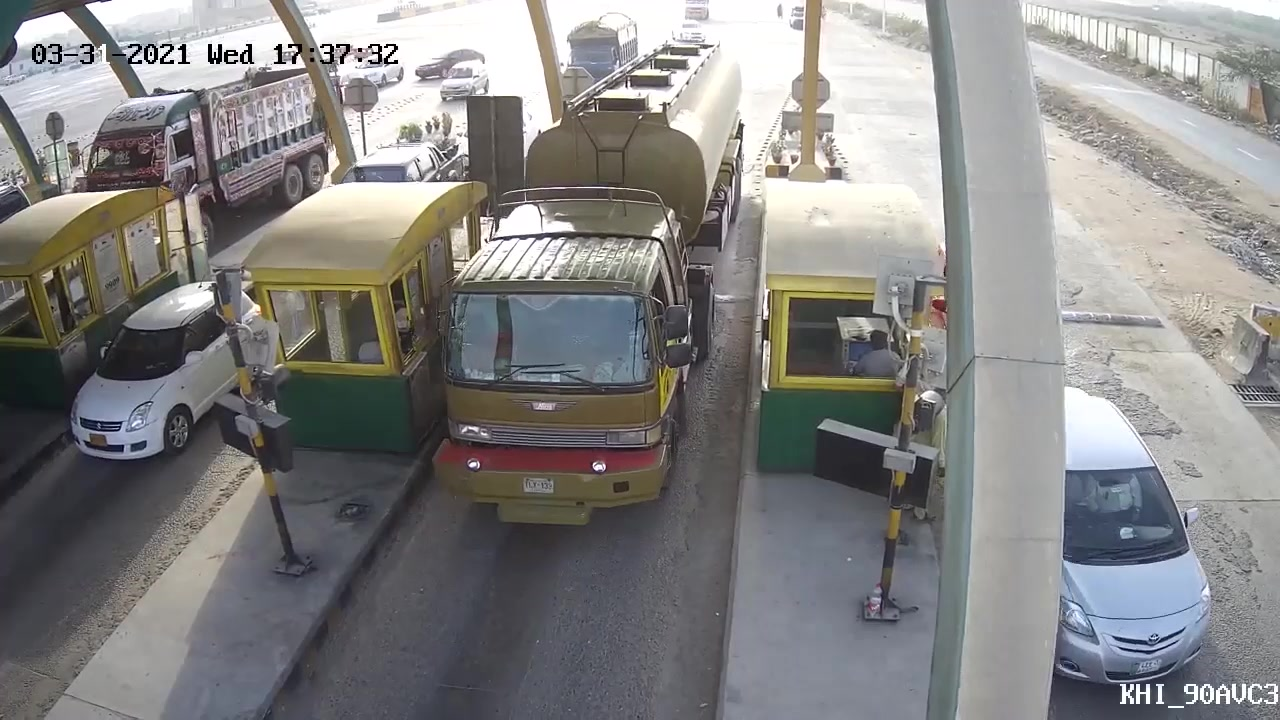F6: (428, 31, 751, 533)
